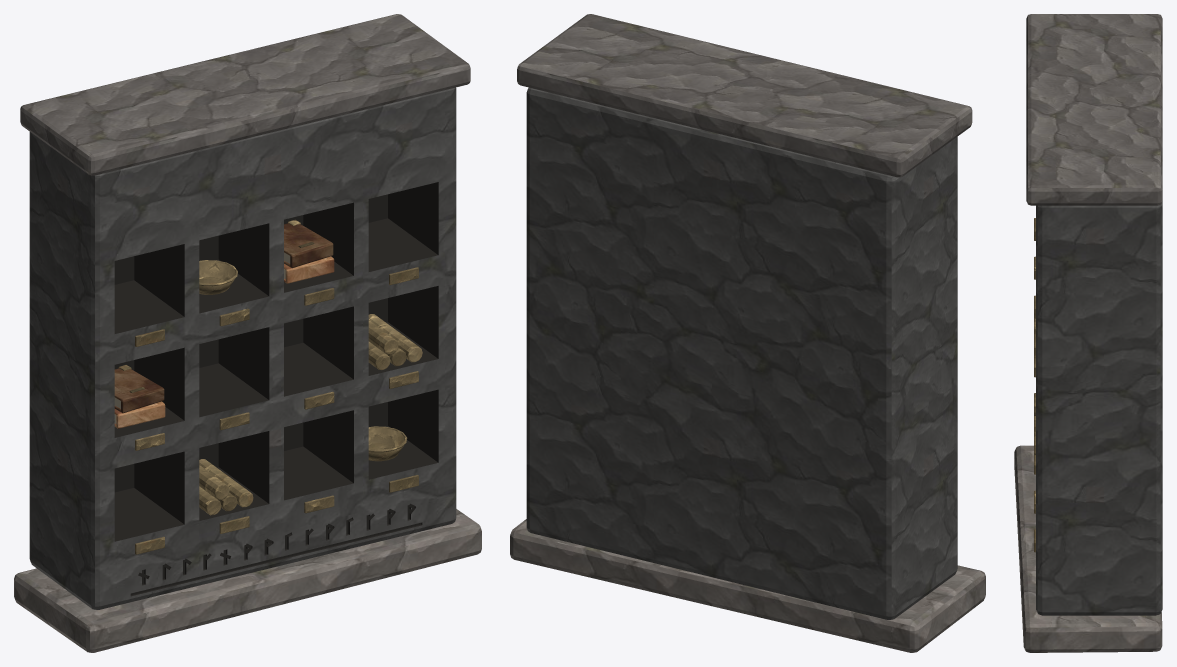
The model's file is bv_pigeonholes_empty.glb.
The picture shows the model from 3 angles, left to right: view 1: azimuth 30°, elevation 25°; view 2: azimuth 150°, elevation 25°; view 3: azimuth 270°, elevation 25°; orthographic projection. The views are drawn at different scales.
Visible parts, largest first — view 1: model; view 2: model; view 3: model.
Boxes of the visible parts, bbox=[...] form: model: bbox=[14, 14, 481, 652]; model: bbox=[510, 14, 985, 652]; model: bbox=[1014, 14, 1162, 652].
Size of the model in its own units: 1.38 by 1.62 by 0.4679.
Materials: 11 (9 with a texture image).
